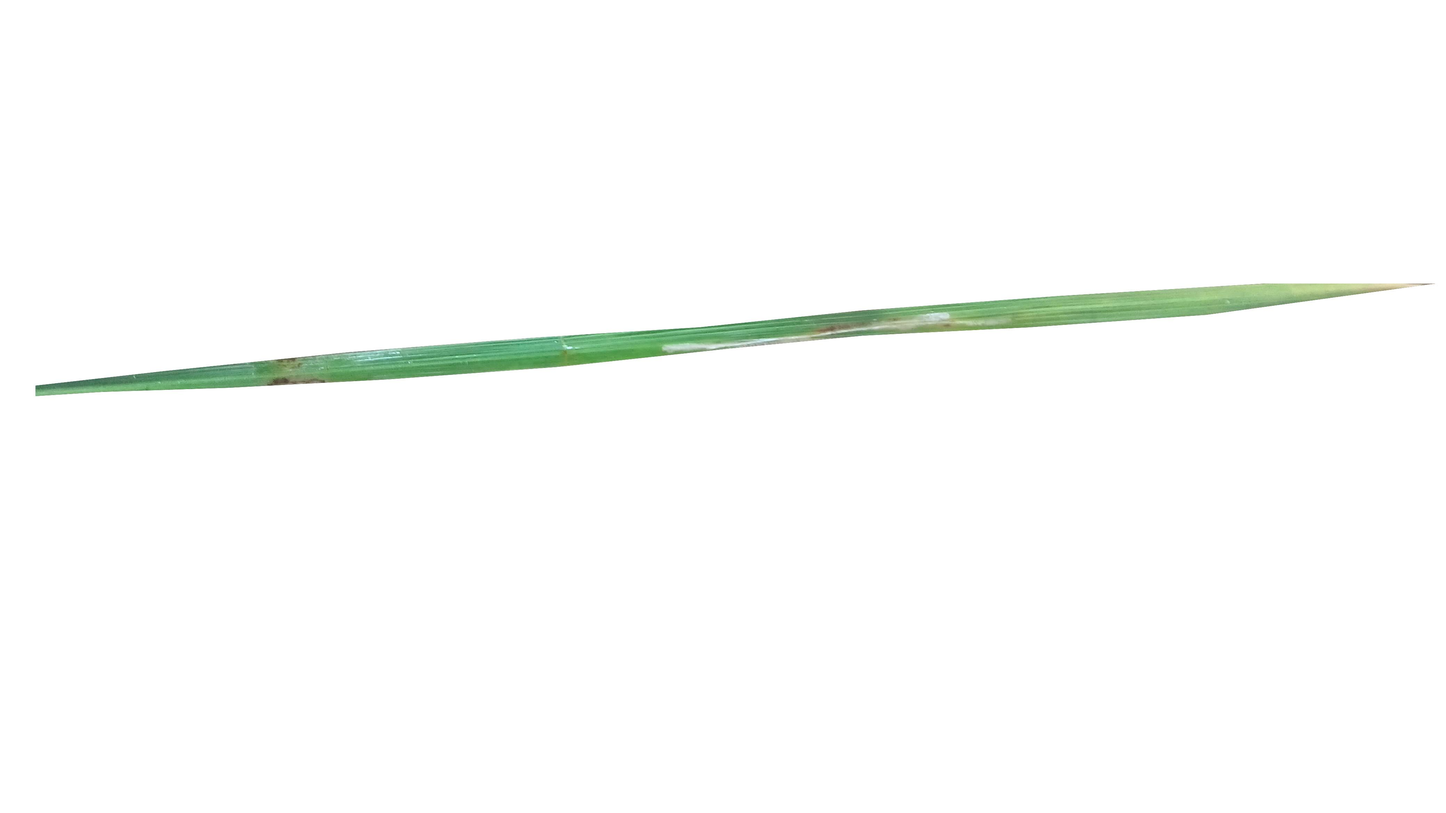Rice blast: (268, 365, 325, 391)
Tungro: (1147, 285, 1401, 316)
